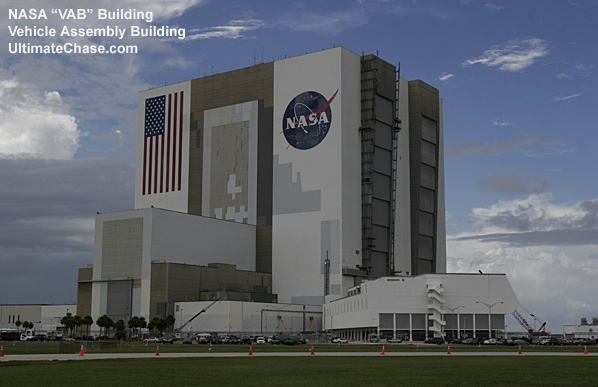NASA: (275, 86, 340, 149)
